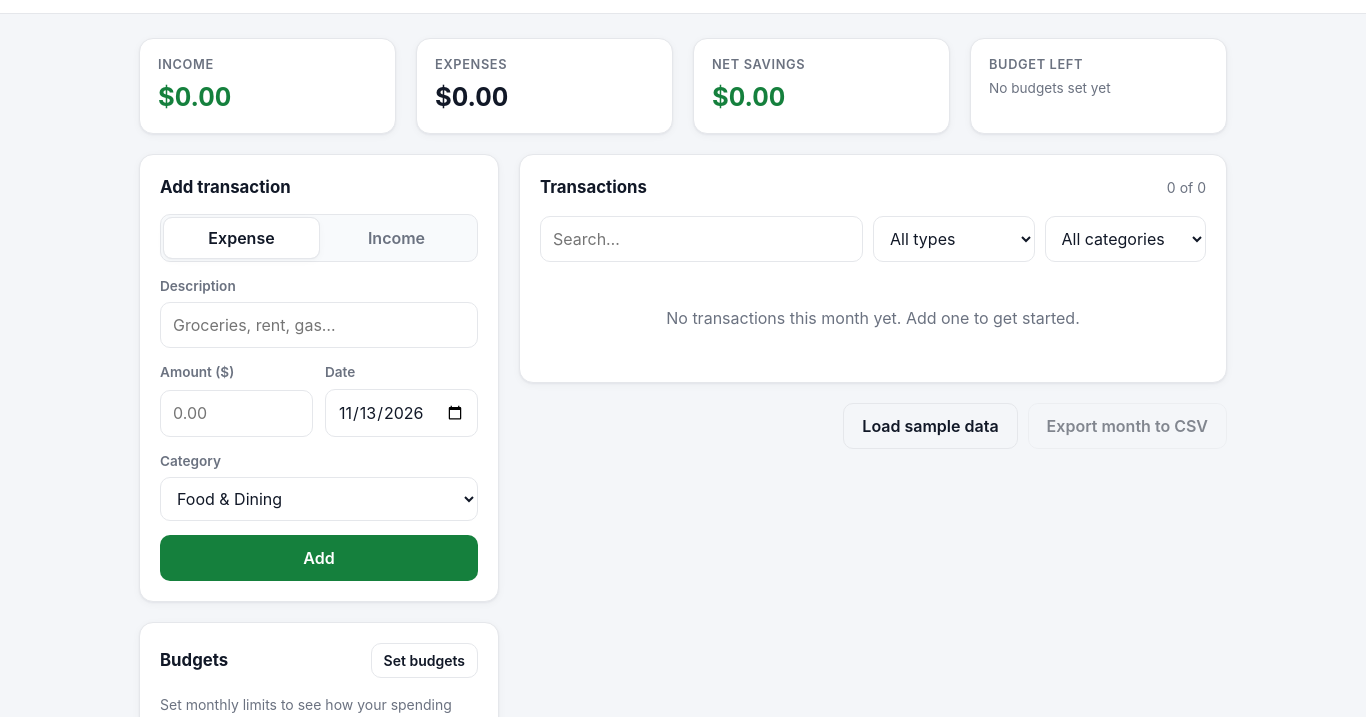
Scenario: budgets show spending against the limit
Click the button "Expense". click: (242, 238)
box: [164,218,319,258]
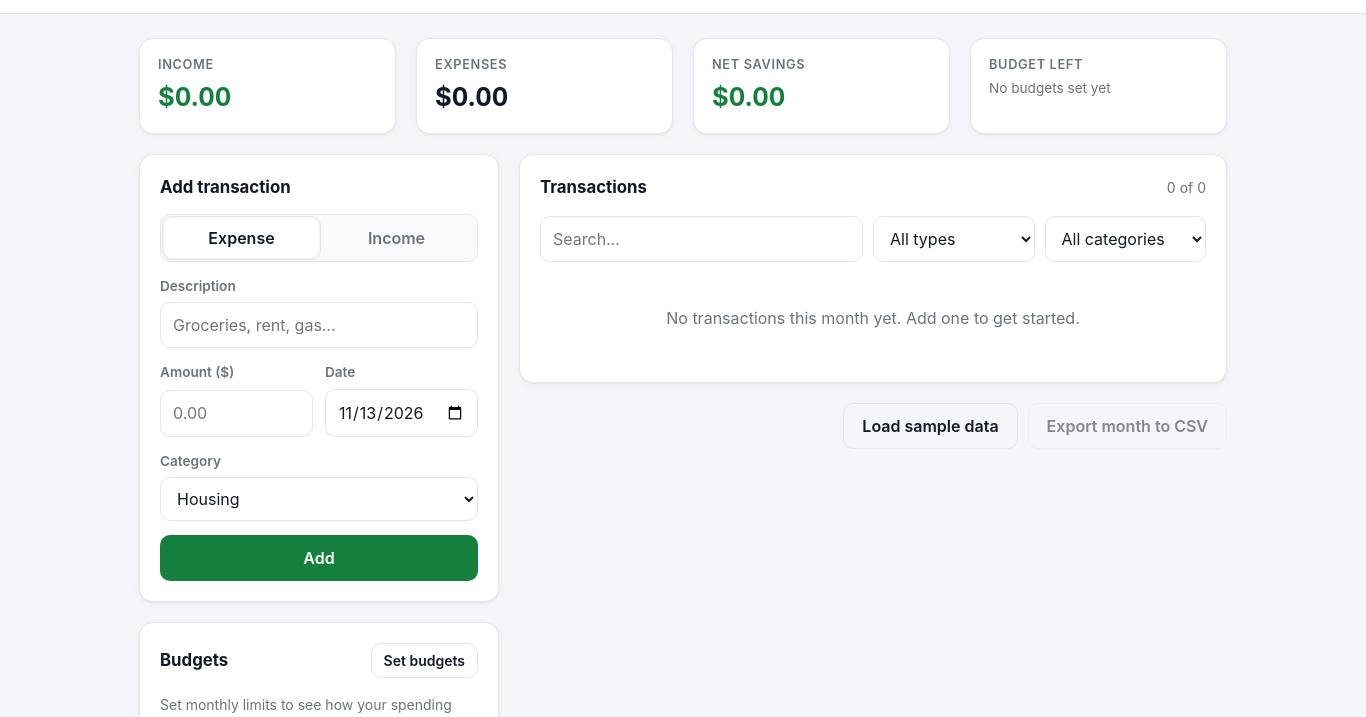
Type "Dinner" into the field labelled "Description". click: (319, 325)
box: [160,302,478,348]
Type "60" into the number field labelled "Amount ($)". click: (236, 413)
box: [160,390,313,436]
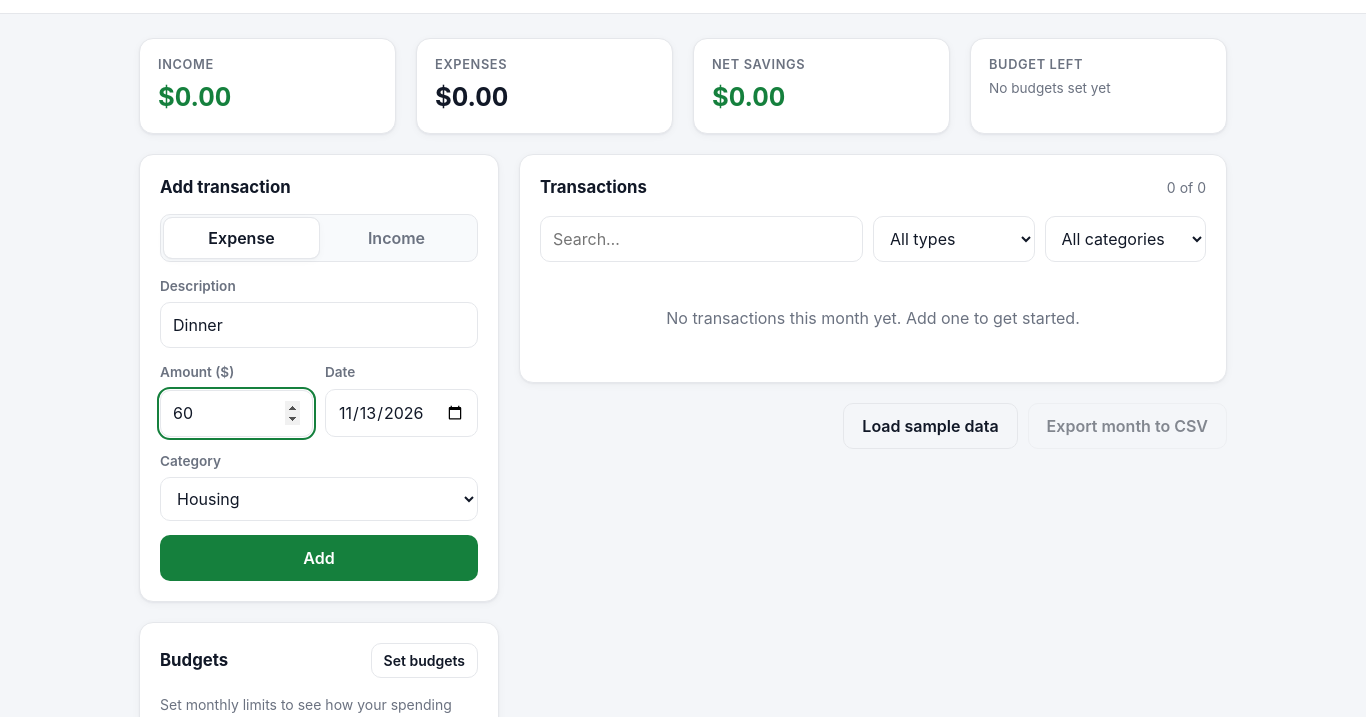
Select "Food & Dining" in the dropdown labelled "Category". click: (319, 499)
box: [160,477,478,521]
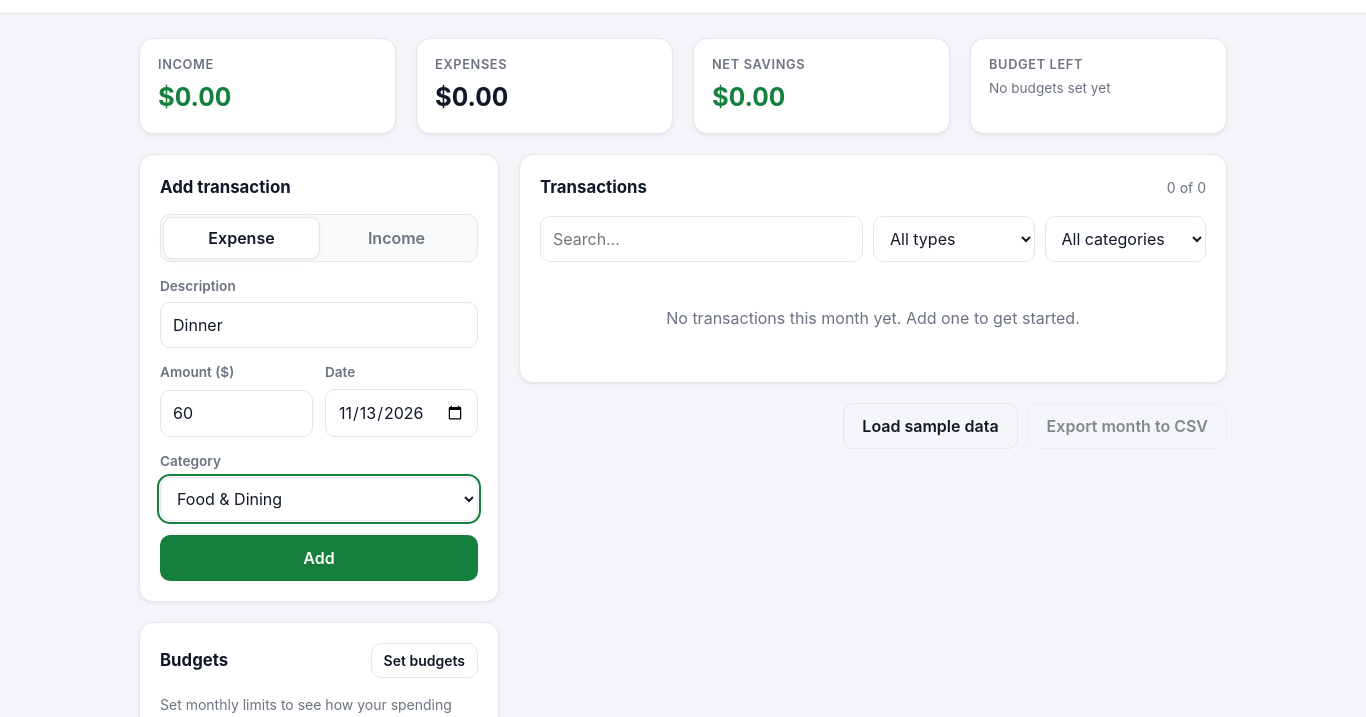
Click the button "Add". click: (319, 558)
box: [160,535,478,581]
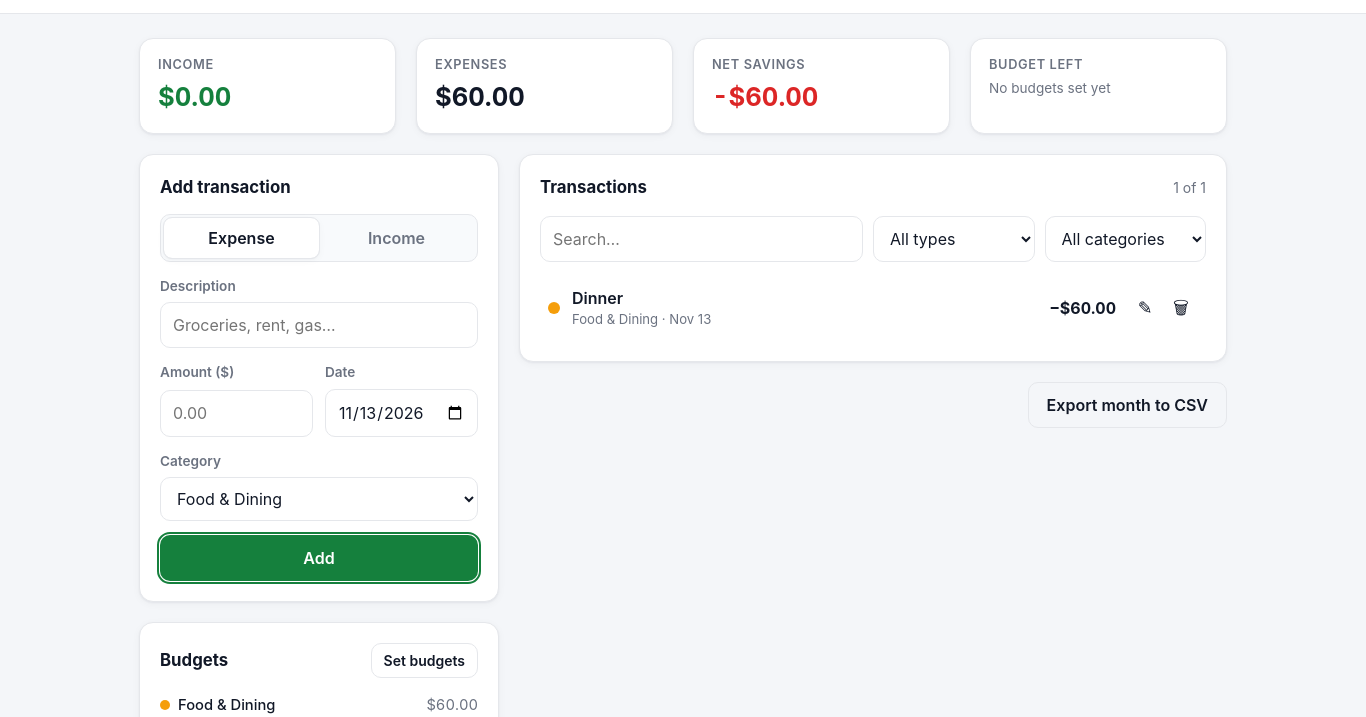
Click the button "Set budgets". click: (424, 660)
box: [370,643,478,678]
(page scrolled)
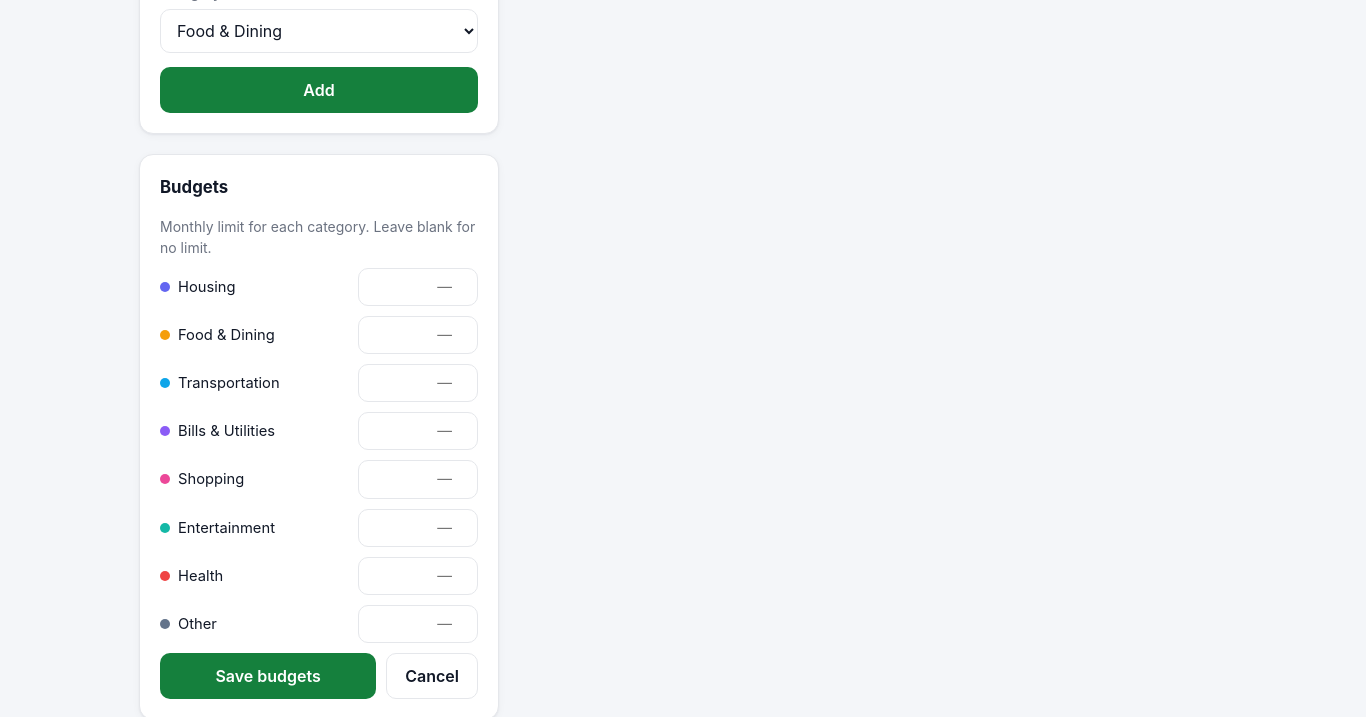
Type "50" into the number field named "Food & Dining budget". click: (418, 335)
box: [358,316,478,354]
Click the button "Save budgets". click: (268, 676)
box: [160,653,376,699]
(page scrolled)
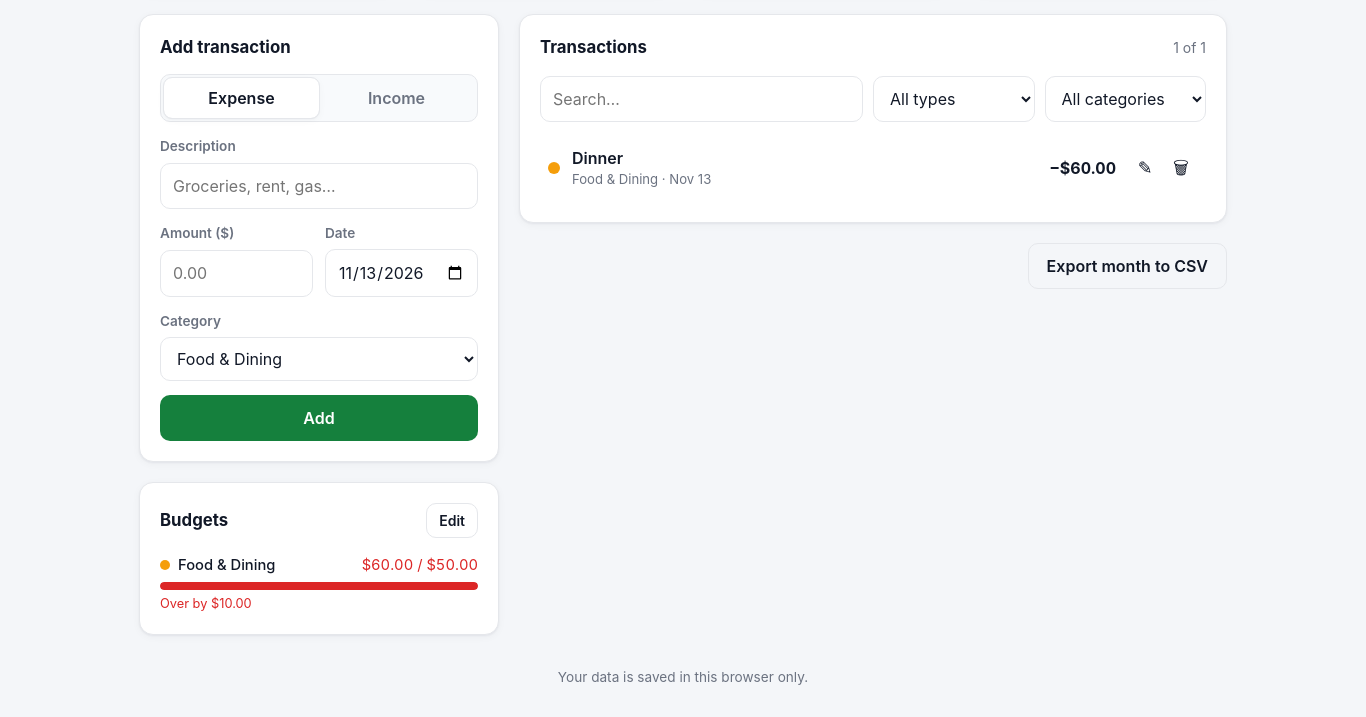
Expected: the text "$60.00 / $50.00" is shown, [362,554,478,576]
Expected: the text "Over by $10.00" is shown, [160,596,252,611]
